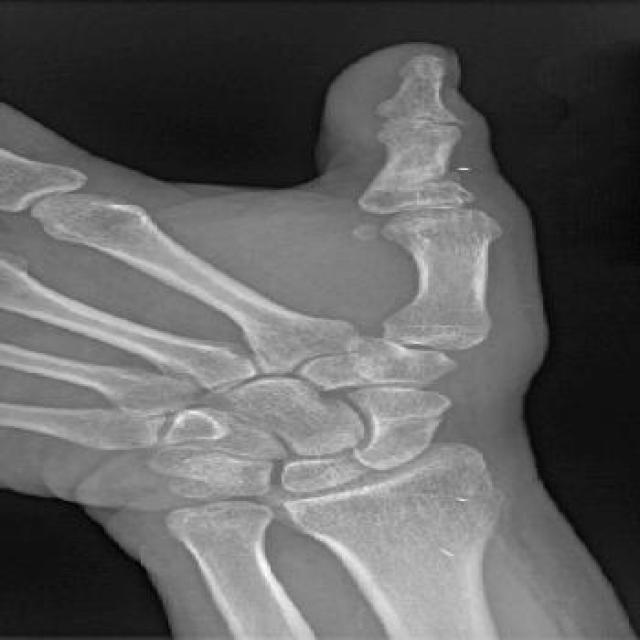fracture: (403, 163, 475, 192)
